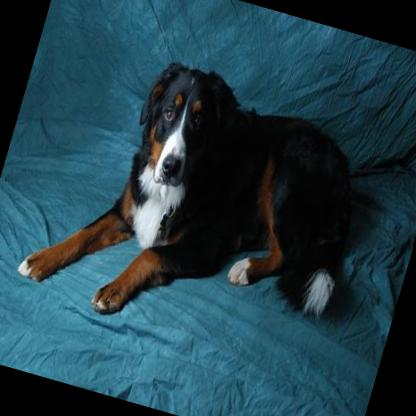Bernese_mountain_dog: (13, 33, 387, 366)
